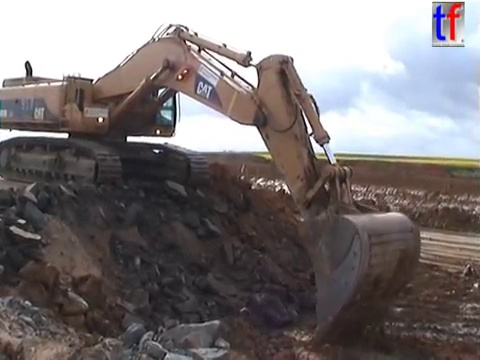excavator: (1, 20, 425, 348)
